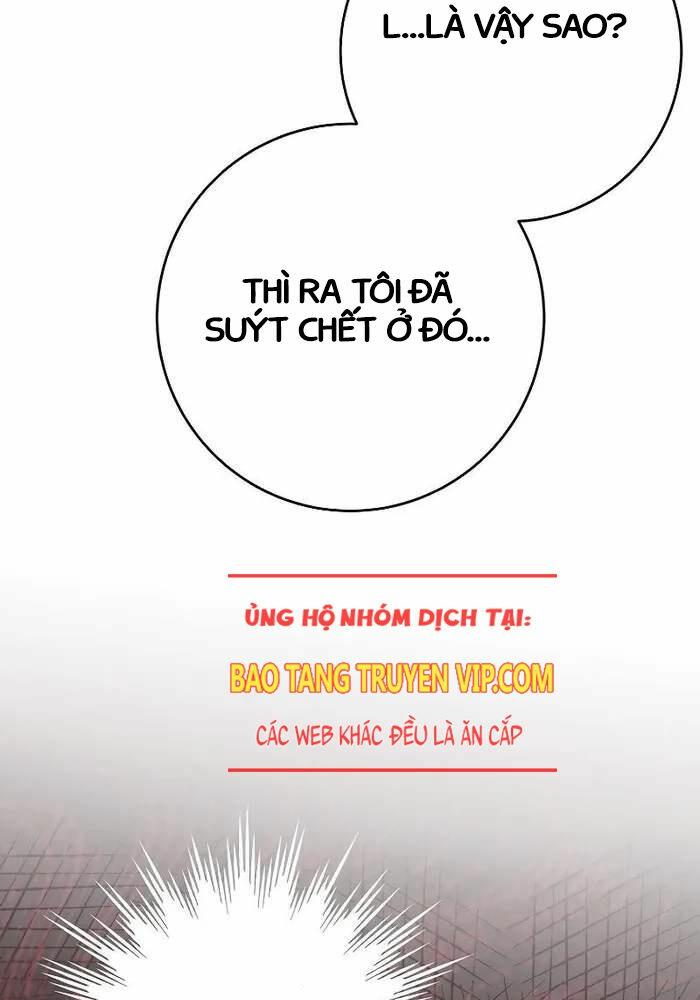quangcao: (226, 569, 569, 774)
